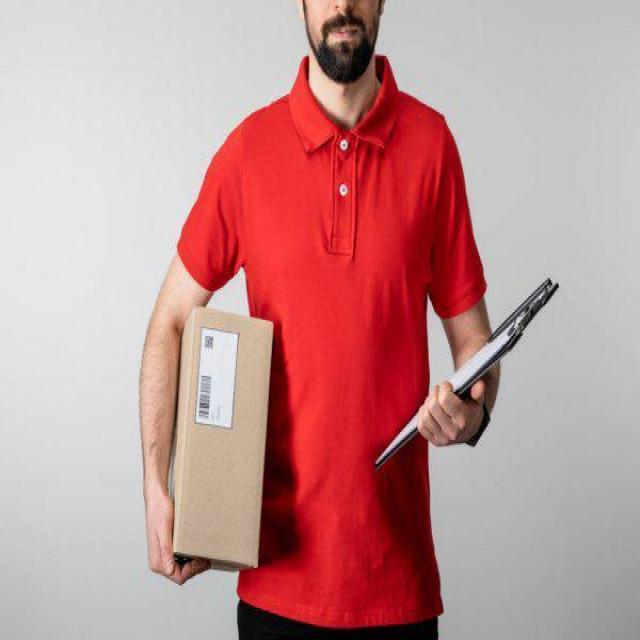box: (162, 293, 282, 587)
